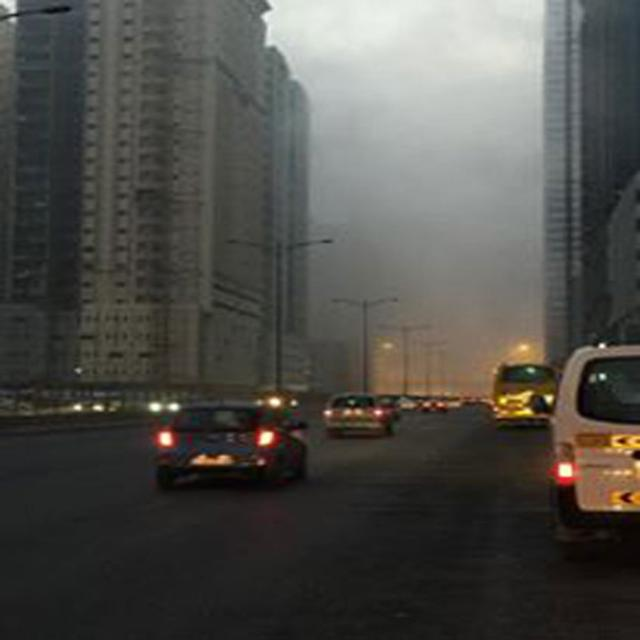car: (544, 343, 640, 549), (152, 401, 308, 488), (324, 396, 394, 440)
truck: (490, 360, 560, 428)
